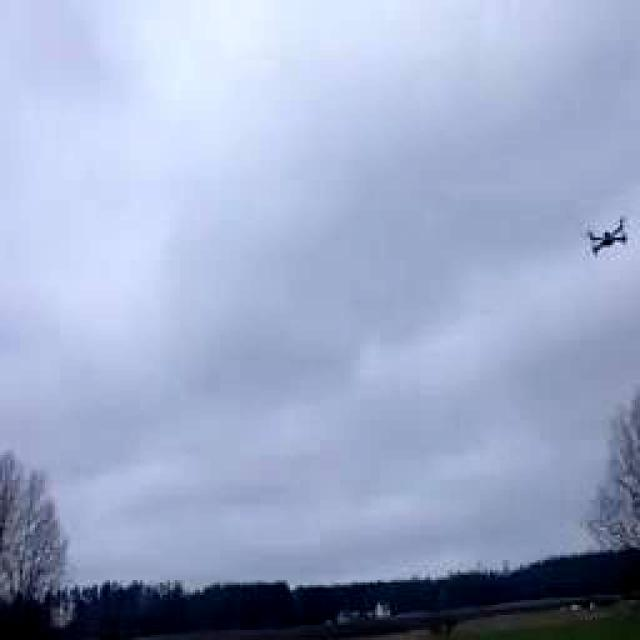bird: (564, 205, 640, 268)
